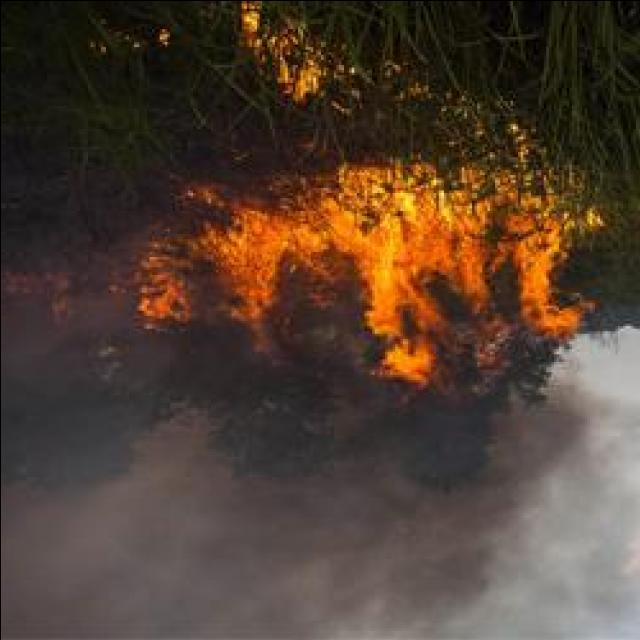fire: (325, 169, 494, 327), (233, 218, 274, 272)
smoke: (0, 507, 159, 637), (321, 500, 490, 620), (499, 408, 638, 538), (185, 494, 344, 600)
